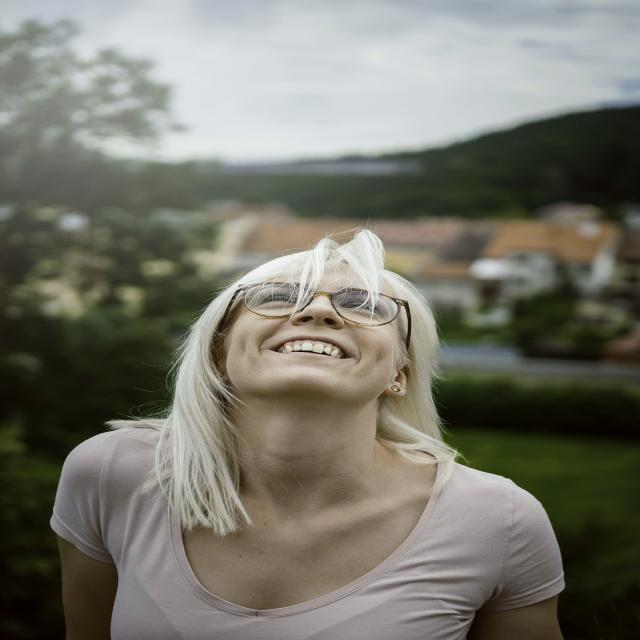adult: (47, 226, 575, 640)
